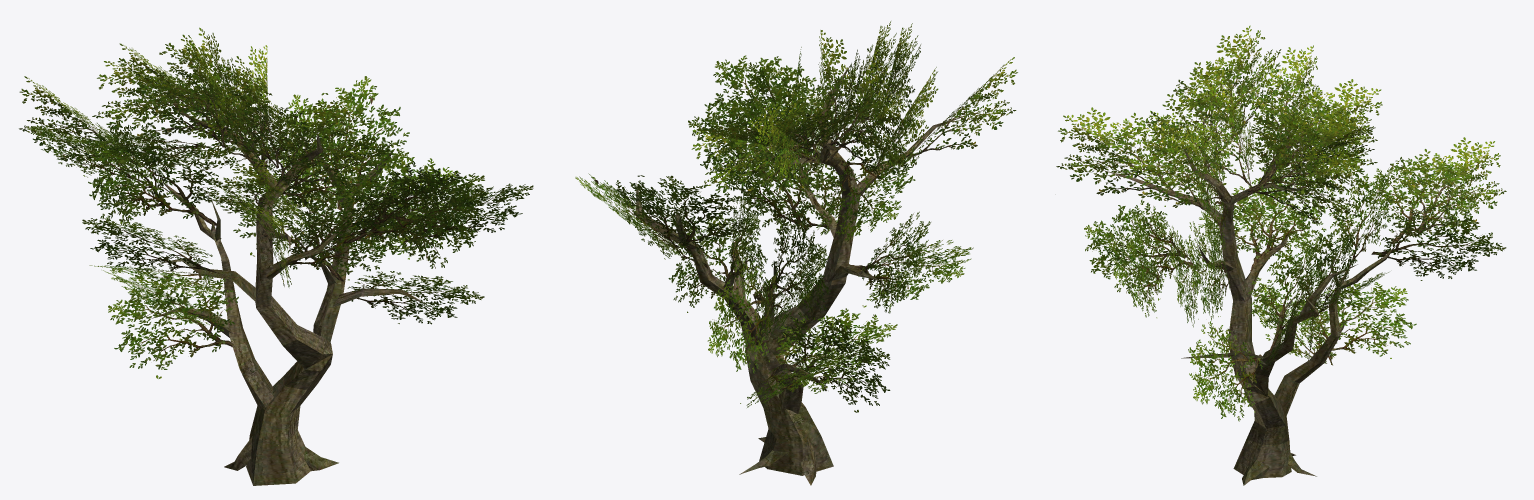
Rendered from SC001Jzhiwu_01.FBX.
The picture shows the model from 3 angles, left to right: view 1: azimuth 30°, elevation 25°; view 2: azimuth 150°, elevation 25°; view 3: azimuth 270°, elevation 25°; orthographic projection. The views are drawn at different scales.
Parts seen in each view (by area): view 1: SC001Jzhiwu_01 (×2); view 2: SC001Jzhiwu_01 (×2); view 3: SC001Jzhiwu_01 (×2).
Part boxes in pixels (box(x1,y1,x2,y2)): SC001Jzhiwu_01 (×2): box(19, 27, 533, 485); SC001Jzhiwu_01 (×2): box(575, 21, 1017, 485); SC001Jzhiwu_01 (×2): box(1056, 25, 1506, 485).
Size of the model in its own units: 5.5 by 6.47 by 6.64.
